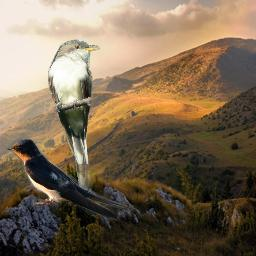Cuckoo: (48, 39, 100, 199)
Swallow: (3, 135, 137, 220)
